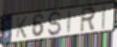6: (31, 13, 45, 38)
I: (66, 9, 73, 35), (101, 5, 106, 31)
K: (15, 16, 28, 40)
R: (79, 6, 96, 34)
S: (47, 10, 64, 37)
